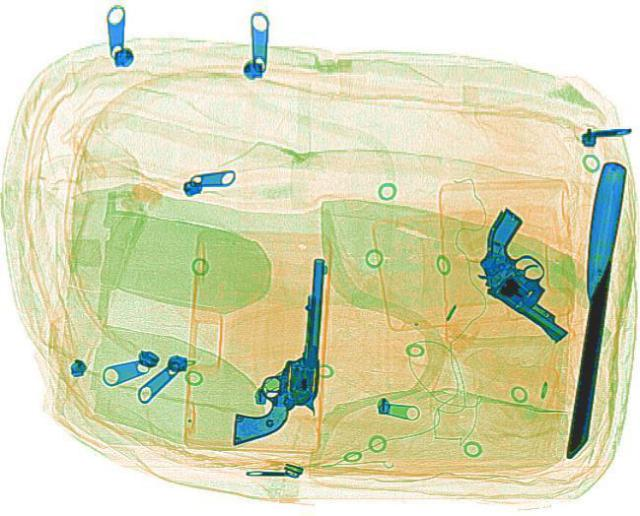Gun: (436, 206, 622, 340), (230, 254, 324, 442)
Knife: (559, 160, 625, 456)
